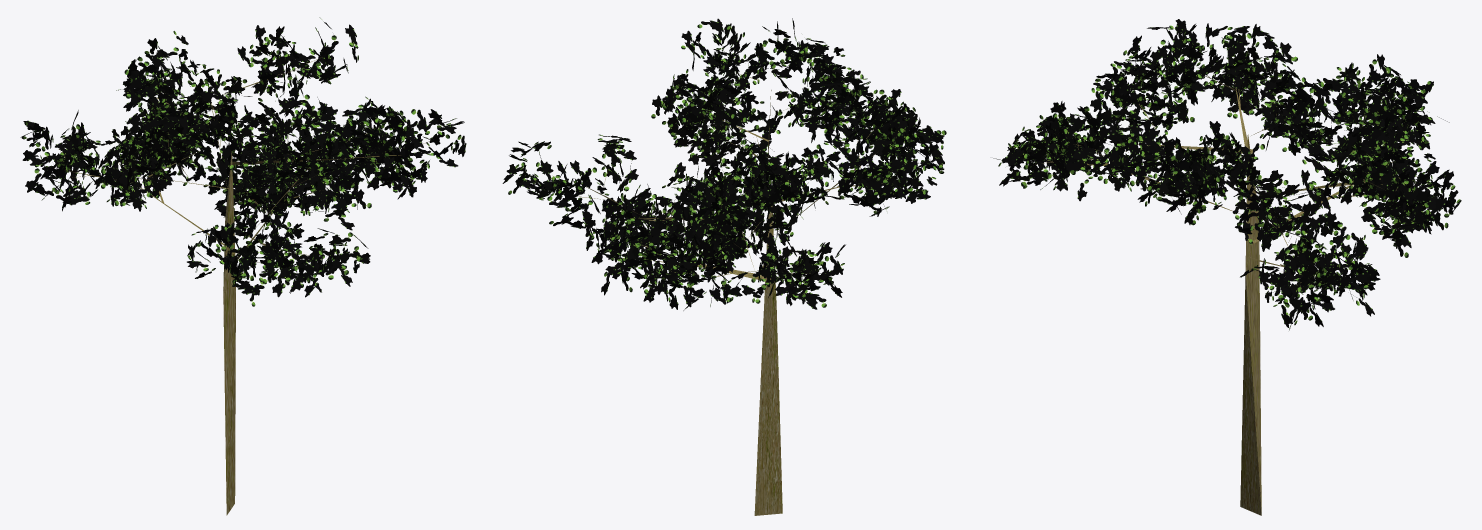
The model's file is pine_open_v01_LOD2.fbx.
3 views of the same model, side by side, from view 1: azimuth 30°, elevation 25°; view 2: azimuth 150°, elevation 25°; view 3: azimuth 270°, elevation 25° (orthographic). The views are drawn at different scales.
Parts seen in each view (by area): view 1: pine_open_v01_LOD2; view 2: pine_open_v01_LOD2; view 3: pine_open_v01_LOD2.
Part boxes in pixels (bbox=[...]): pine_open_v01_LOD2: bbox=[20, 17, 466, 515]; pine_open_v01_LOD2: bbox=[502, 18, 946, 515]; pine_open_v01_LOD2: bbox=[993, 19, 1461, 515].
Bounding box in the file's own units: 1301 × 1497 × 1609.
Materials: 2 (2 with a texture image).
